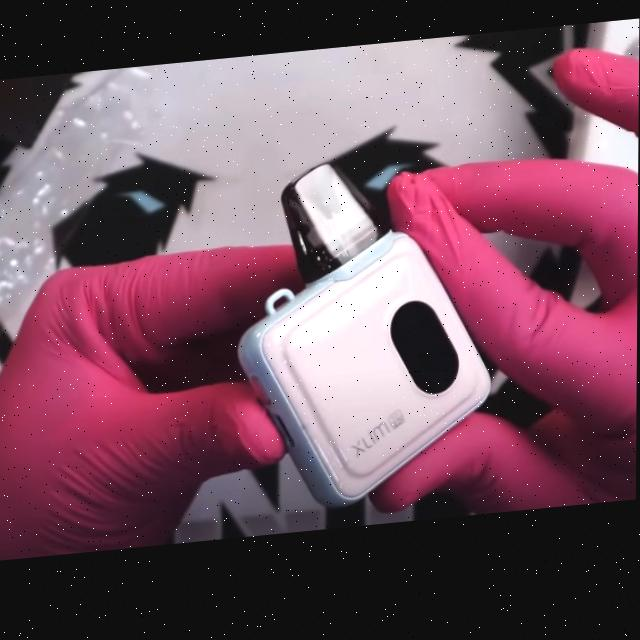vape: (235, 154, 494, 522)
